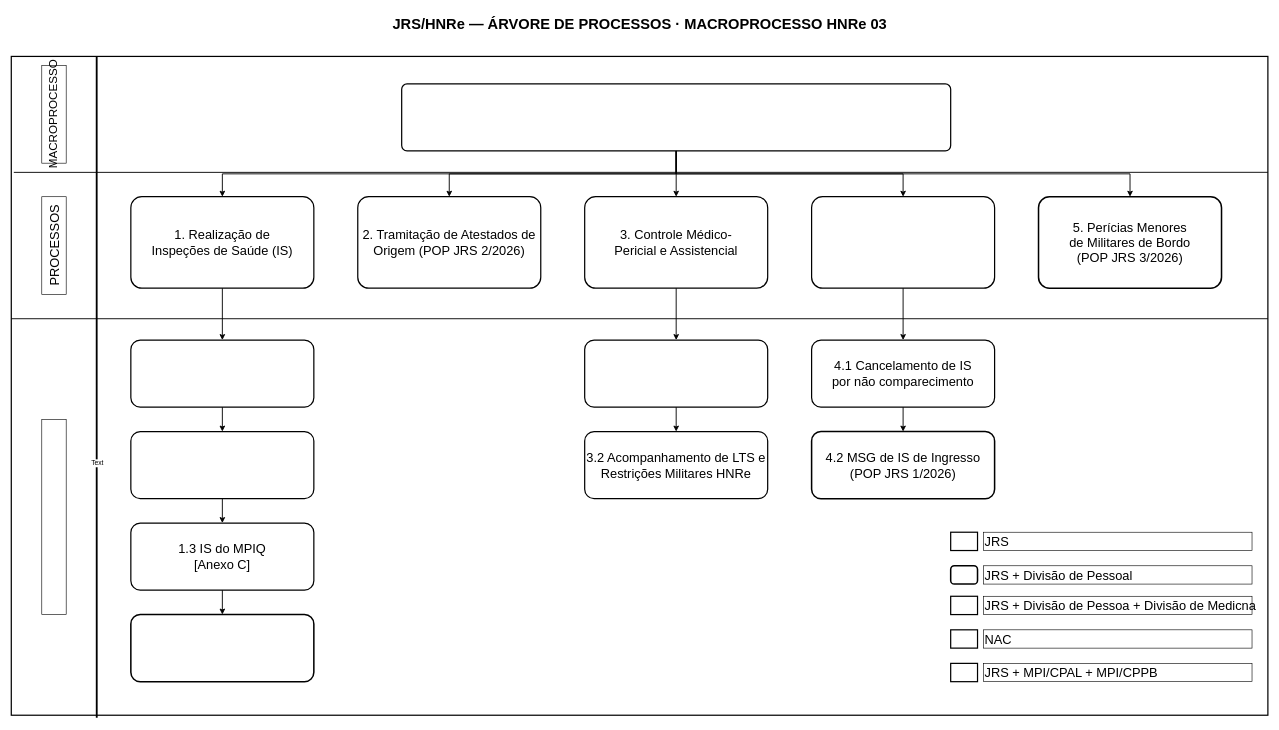
Some shapes in this 1279 by 730 pixel diagram are drawn without their labels. The box of each missing label's shape, as (x1, y1, x2, y2) in pixels:
1.1 IS da JRS — rotina [Anexo A]: (130, 339, 314, 407)
1.2 IS do MPI [Anexo B]: (130, 431, 314, 499)
1.4 Apreciação documental das IS dos MPI/CPAL e MPI/CPPB: (130, 614, 314, 682)
3.1 Acompanhamento de LTS e Restrições Militares HNRe: (584, 339, 768, 407)
4. Agendamento e controle de prazos: (811, 196, 995, 289)
MACROPROCESSO HNRE 03: (401, 83, 951, 151)
SUBPROCESSOS / ATIVIDADES: (41, 419, 66, 615)
